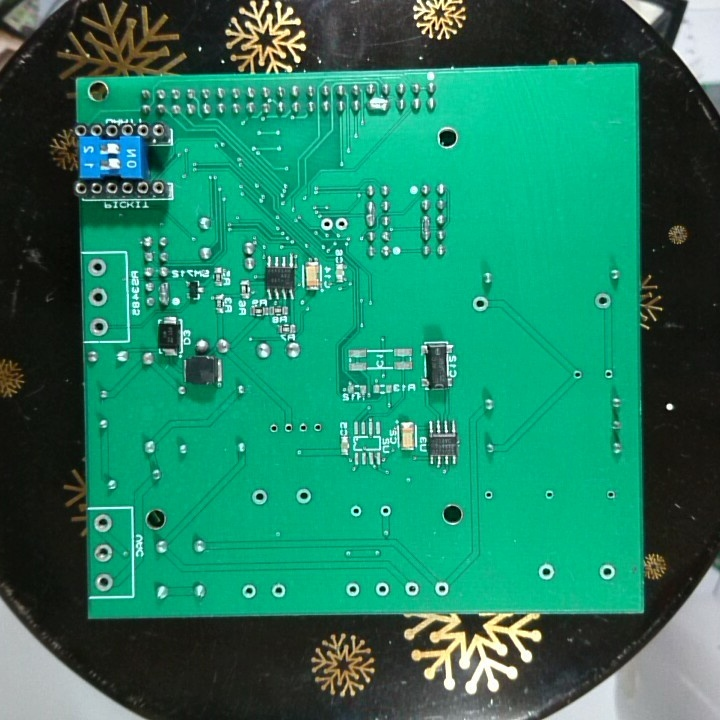F: (91, 511, 115, 537), (91, 542, 116, 566), (86, 285, 109, 310), (85, 256, 108, 279), (93, 572, 115, 594), (88, 316, 110, 338), (536, 560, 556, 583), (597, 560, 617, 583), (592, 290, 614, 310), (470, 294, 491, 314), (249, 487, 270, 507), (294, 486, 314, 506), (432, 578, 452, 597), (373, 580, 392, 600), (269, 581, 288, 601), (344, 580, 362, 600), (402, 580, 420, 599), (239, 582, 258, 600), (334, 215, 350, 234), (348, 502, 364, 520), (310, 418, 325, 437), (377, 503, 393, 520), (296, 419, 310, 438), (280, 420, 296, 436), (319, 216, 334, 232), (571, 366, 585, 383), (602, 366, 615, 380), (604, 488, 617, 502), (543, 488, 556, 501), (267, 422, 280, 435), (482, 488, 494, 502)
P: (364, 95, 391, 115), (363, 198, 378, 229), (156, 280, 171, 309), (418, 213, 432, 242)
